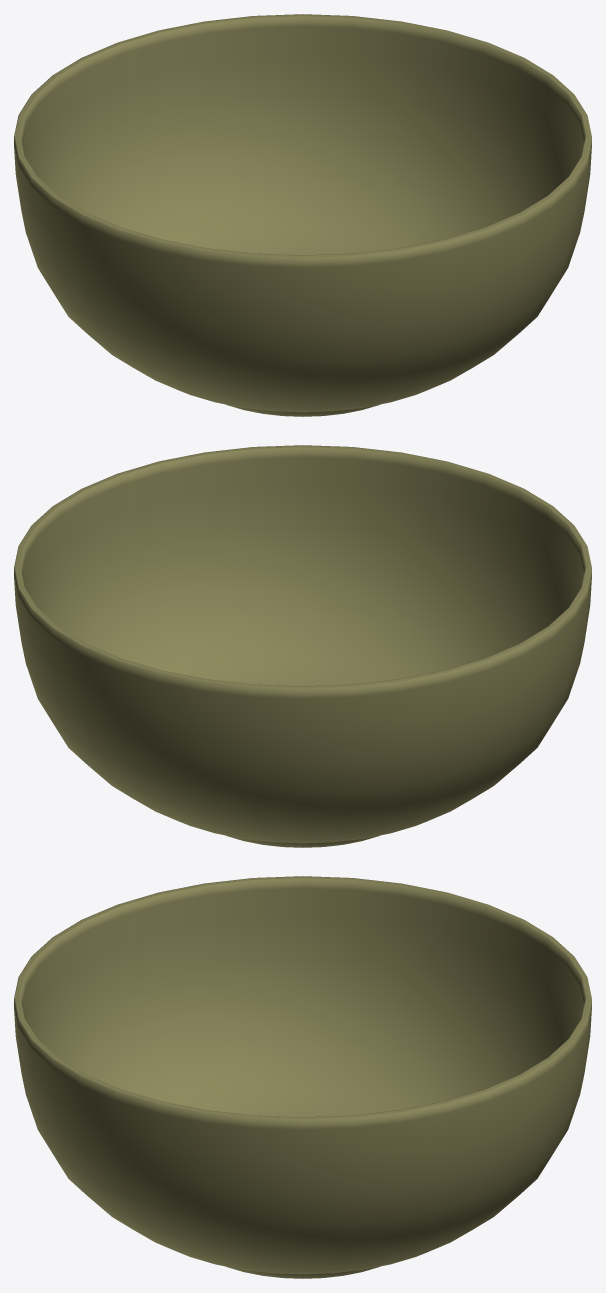
File: bowl.dae
3 views of the same model, one above another, from view 1: azimuth 30°, elevation 25°; view 2: azimuth 150°, elevation 25°; view 3: azimuth 270°, elevation 25° (orthographic).
Parts seen in each view (by area): view 1: Cylinder05; view 2: Cylinder05; view 3: Cylinder05.
Boxes of the visible parts, box(x1,y1,x2,y2) form: Cylinder05: box(14, 14, 591, 416); Cylinder05: box(14, 445, 591, 847); Cylinder05: box(14, 876, 591, 1278).
Size of the model in its own units: 0.2159 by 0.2159 by 0.0966.
